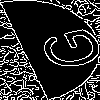G: (25, 25, 100, 76)
